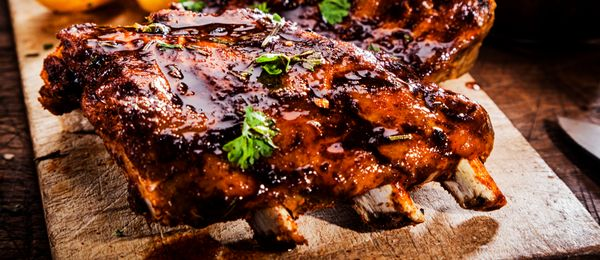curry: (29, 2, 598, 254)
